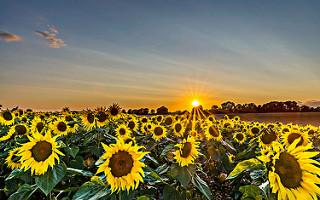sunflower: (261, 138, 320, 200), (98, 142, 148, 193), (18, 132, 62, 175), (174, 136, 201, 168), (282, 131, 308, 150), (78, 107, 97, 132), (92, 106, 110, 127), (105, 102, 123, 121), (51, 119, 70, 136), (204, 124, 222, 141), (150, 124, 166, 140), (0, 108, 15, 125), (114, 124, 130, 139), (0, 126, 14, 143), (172, 121, 184, 135), (232, 131, 246, 143)
